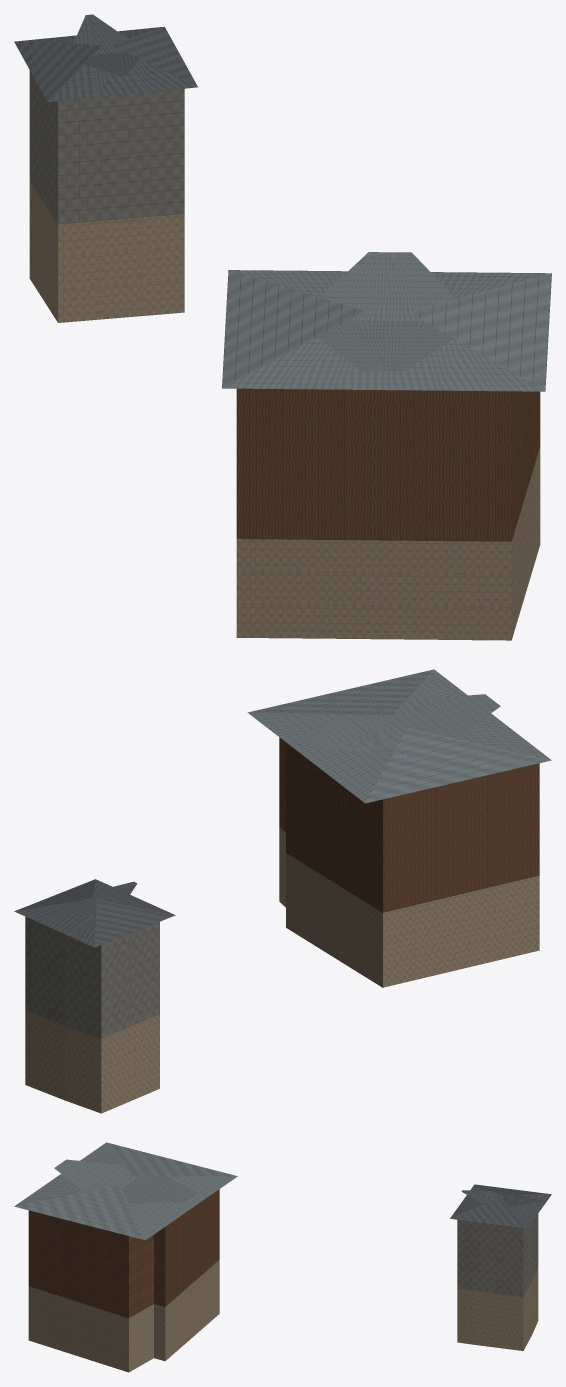
File: bld_c23_-48_530.gltf
3 renders of one model, top to bottom at view 1: azimuth 30°, elevation 25°; view 2: azimuth 150°, elevation 25°; view 3: azimuth 270°, elevation 25°, orthographic. The views are drawn at different scales.
Visible parts, largest first — view 1: bld_c23_-48_530; view 2: bld_c23_-48_530; view 3: bld_c23_-48_530.
Boxes of the visible parts, <box> form: bld_c23_-48_530: <box>14,14,551,640</box>; bld_c23_-48_530: <box>14,669,551,1113</box>; bld_c23_-48_530: <box>14,1142,551,1372</box>.
Bounding box in the file's own units: 19.76 × 14.2 × 45.83.
5 materials, 5 textured.
